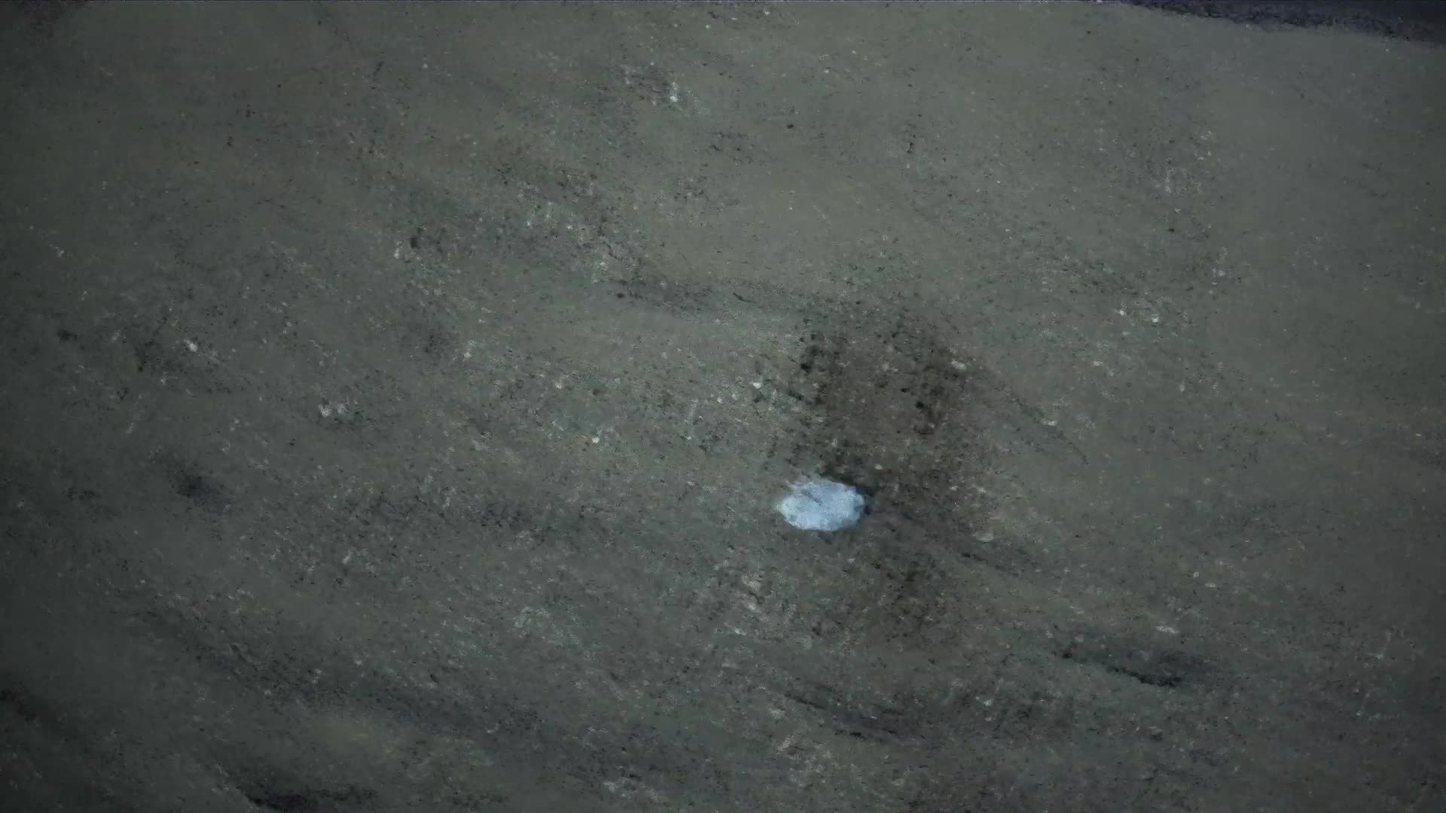Target: (773, 469, 872, 536)
